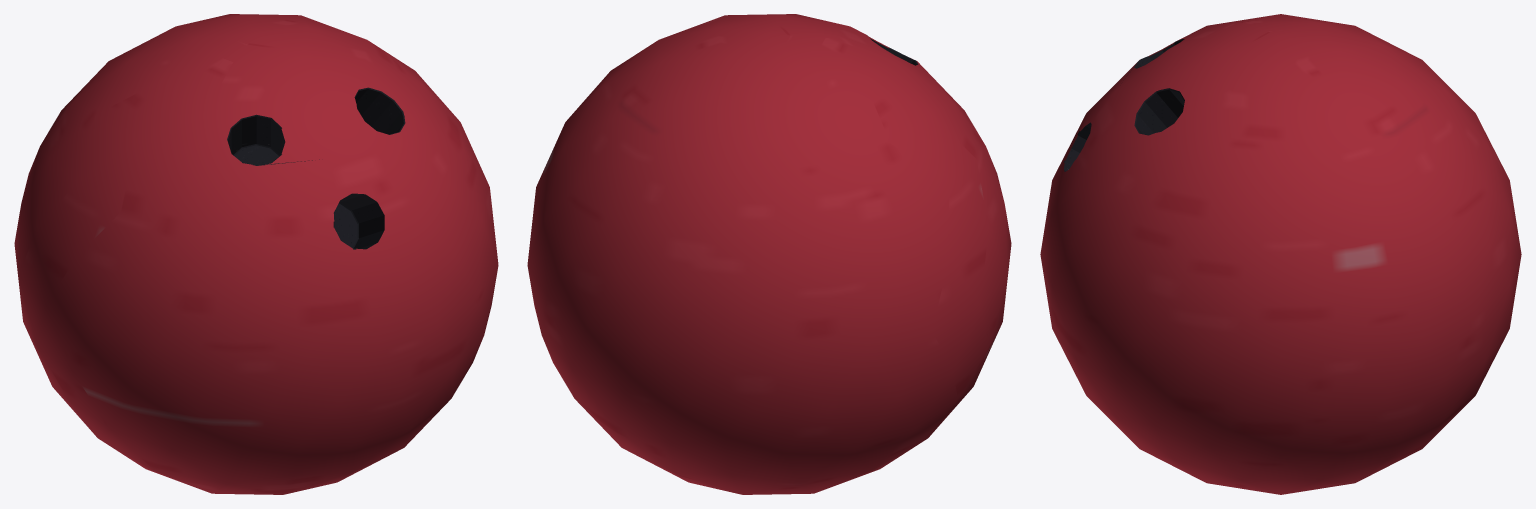
Rendered from bowling_ball_red.glb.
3 views of the same model, side by side, from view 1: azimuth 30°, elevation 25°; view 2: azimuth 150°, elevation 25°; view 3: azimuth 270°, elevation 25° (orthographic).
Parts seen in each view (by area): view 1: arcade_bowling_ball_red; view 2: arcade_bowling_ball_red; view 3: arcade_bowling_ball_red.
Part boxes in pixels (x1,y1,x2,y2): arcade_bowling_ball_red: (14,14,498,494); arcade_bowling_ball_red: (527,14,1011,494); arcade_bowling_ball_red: (1040,14,1521,494).
Bounding box in the file's own units: 0.216 × 0.216 × 0.216.
1 material, 1 textured.
